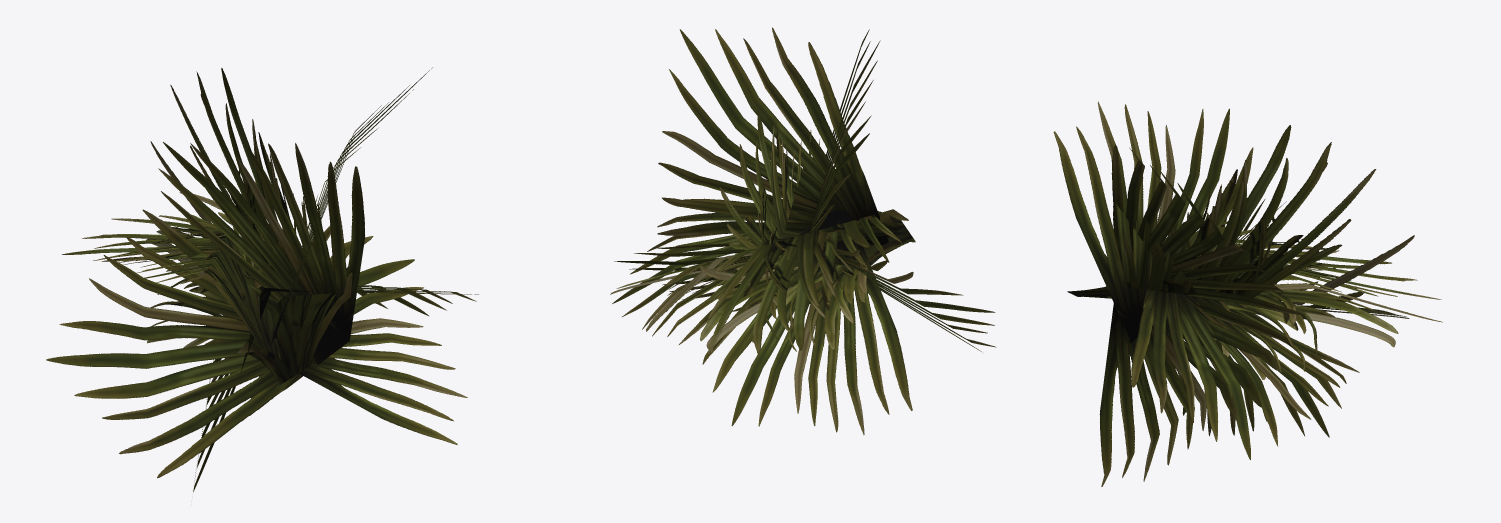
Rendered from MEP_Pandani_DP_02.fbx.
3 renders of one model, left to right at view 1: azimuth 30°, elevation 25°; view 2: azimuth 150°, elevation 25°; view 3: azimuth 270°, elevation 25°, orthographic. The views are drawn at different scales.
Visible parts, largest first — view 1: MEP_Pandani_DP_01; view 2: MEP_Pandani_DP_01; view 3: MEP_Pandani_DP_01.
Boxes of the visible parts, x1,y1,x2,y2 form: MEP_Pandani_DP_01: [46, 67, 478, 492]; MEP_Pandani_DP_01: [610, 27, 996, 435]; MEP_Pandani_DP_01: [1053, 101, 1442, 486].
Size of the model in its own units: 2.64 by 2.55 by 2.27.
